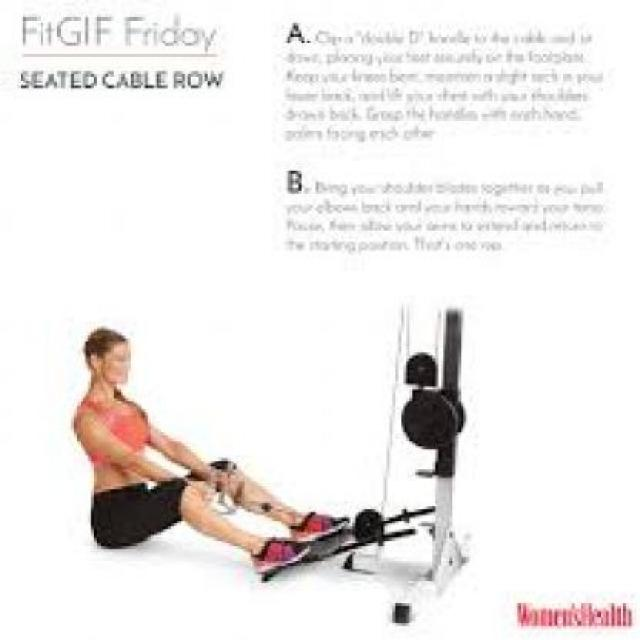Seated Cable Rows: (72, 276, 532, 630)
